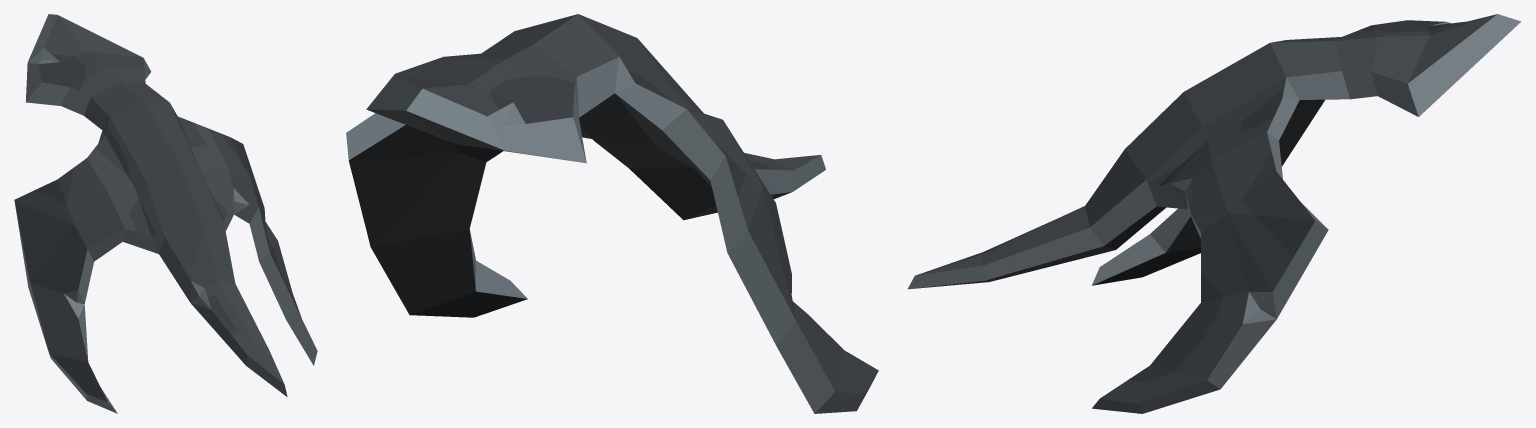
Rendered from SM_Chr_Attach_Helmet_Dark_Large_01.fbx.
The picture shows the model from 3 angles, left to right: view 1: azimuth 30°, elevation 25°; view 2: azimuth 150°, elevation 25°; view 3: azimuth 270°, elevation 25°; orthographic projection. The views are drawn at different scales.
Visible parts, largest first — view 1: SM_Chr_Attach_Helmet_Dark_Large_01; view 2: SM_Chr_Attach_Helmet_Dark_Large_01; view 3: SM_Chr_Attach_Helmet_Dark_Large_01.
Part boxes in pixels (x1,y1,x2,y2): SM_Chr_Attach_Helmet_Dark_Large_01: (14, 14, 317, 413); SM_Chr_Attach_Helmet_Dark_Large_01: (346, 14, 878, 413); SM_Chr_Attach_Helmet_Dark_Large_01: (908, 14, 1521, 413).
Size of the model in its own units: 23.71 by 24.11 by 40.27.
